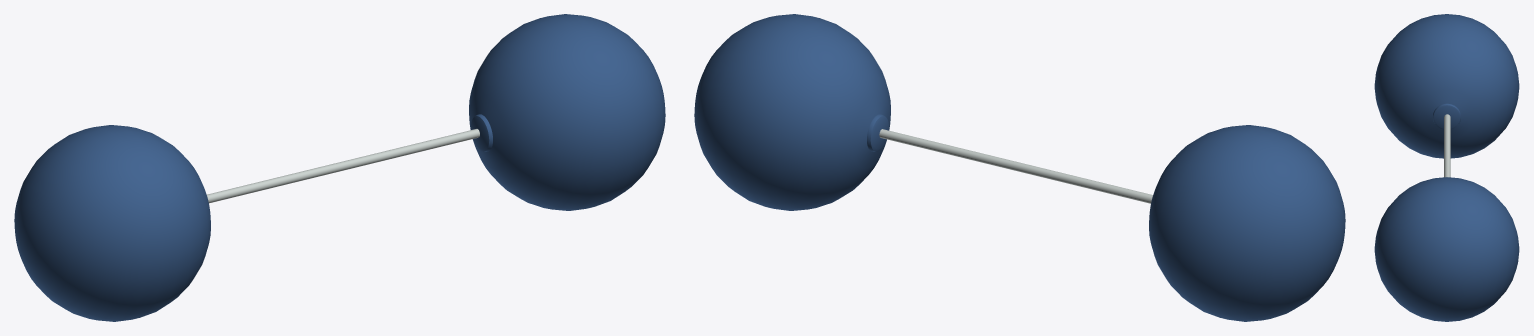
File: F_Barbells_01.fbx
3 views of the same model, side by side, from view 1: azimuth 30°, elevation 25°; view 2: azimuth 150°, elevation 25°; view 3: azimuth 270°, elevation 25° (orthographic). The views are drawn at different scales.
Parts seen in each view (by area): view 1: F_Barbells_01; view 2: F_Barbells_01; view 3: F_Barbells_01.
Part boxes in pixels (left/top/right/bottom): F_Barbells_01: left=14, top=14, right=665, bottom=321; F_Barbells_01: left=694, top=14, right=1345, bottom=321; F_Barbells_01: left=1374, top=14, right=1519, bottom=321.
Size of the model in its own units: 392 by 107 by 107.
